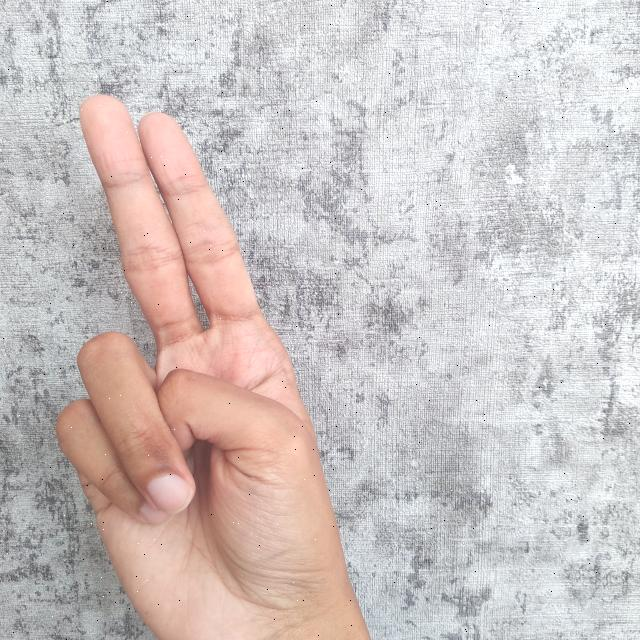U: (51, 85, 378, 640)
